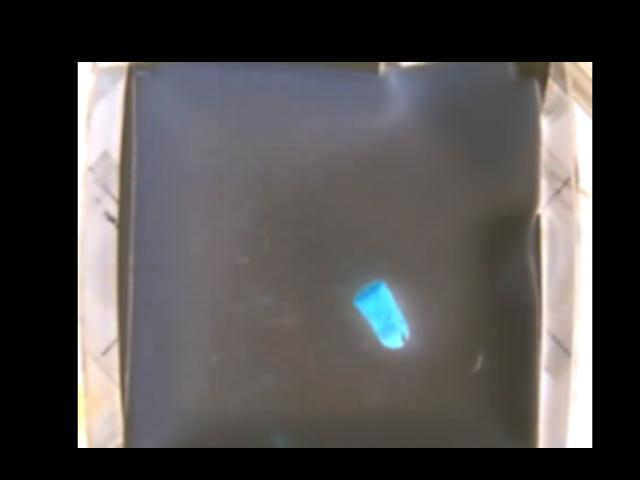Carrot: (351, 283, 408, 351)
